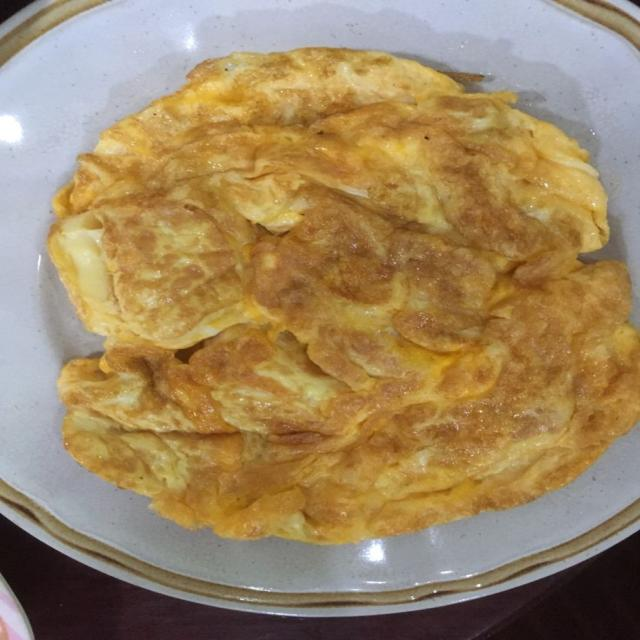omelette: (49, 49, 639, 543)
